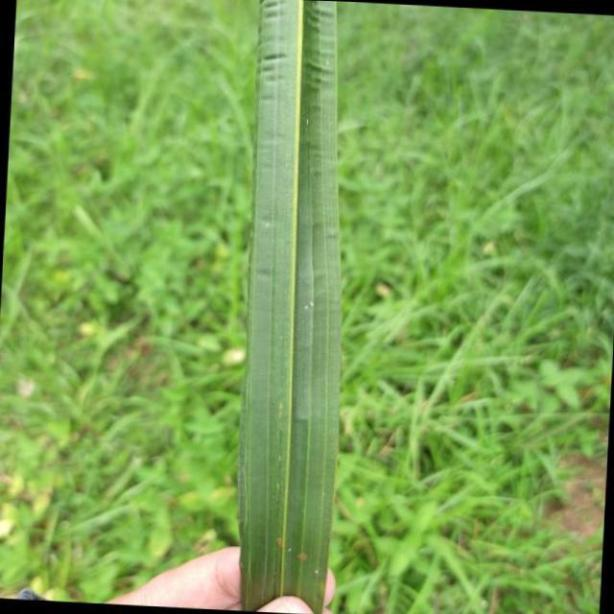Boron: (240, 0, 340, 614)
